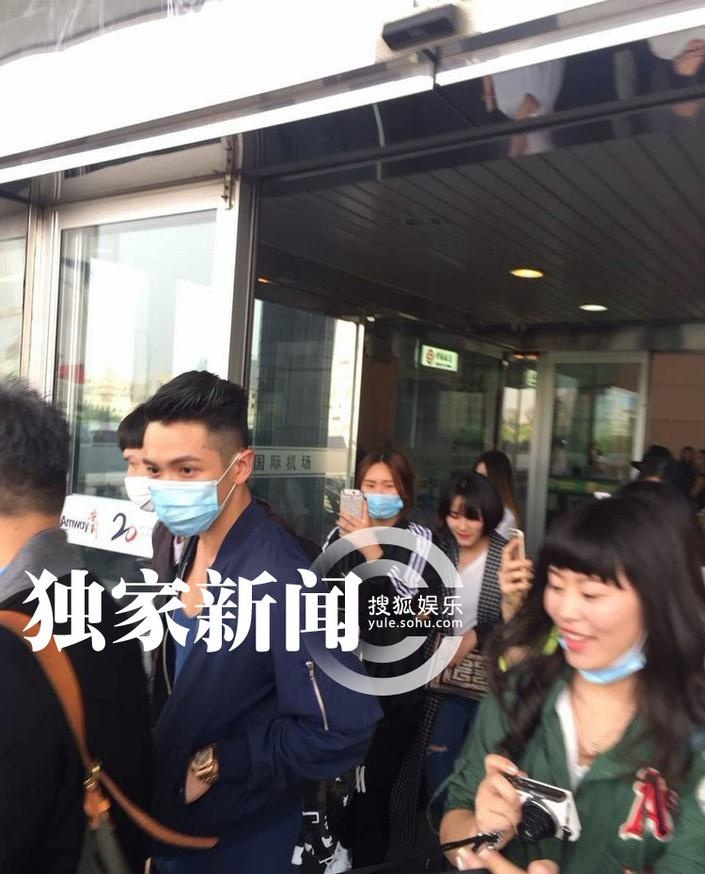Mask: (137, 449, 228, 540)
